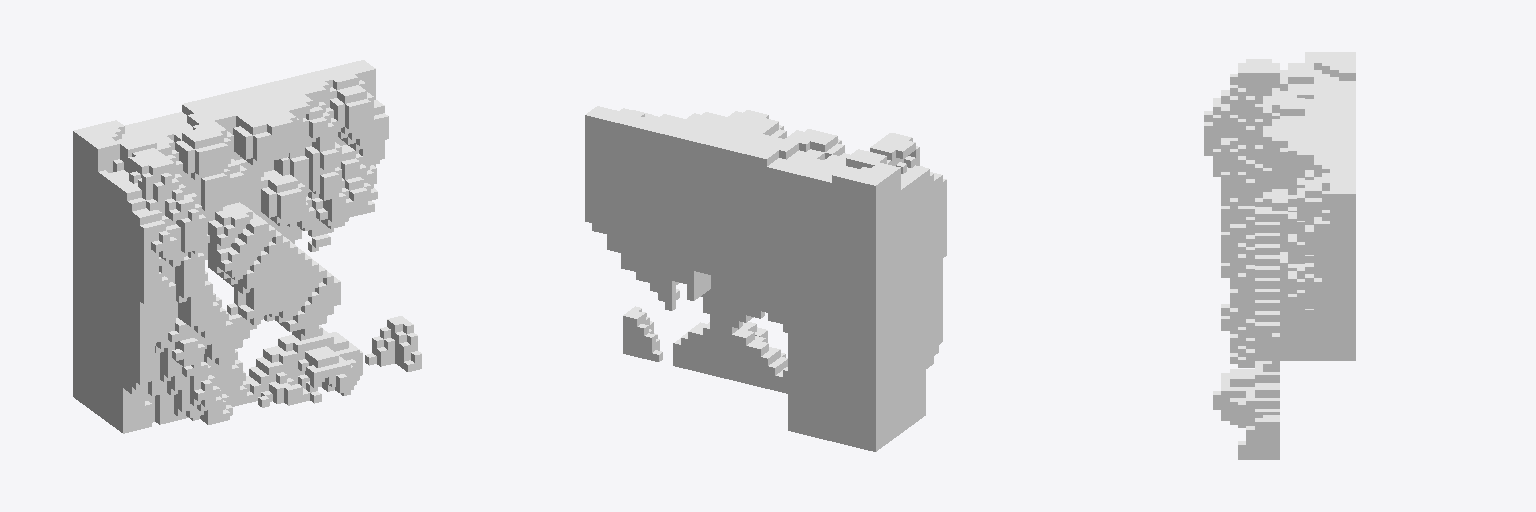
File: snow8.obj
3 views of the same model, side by side, from view 1: azimuth 30°, elevation 25°; view 2: azimuth 150°, elevation 25°; view 3: azimuth 270°, elevation 25° (orthographic).
Visible parts, largest first — view 1: object 1; view 2: object 1; view 3: object 1.
Part boxes in pixels (left/top/right/bottom): object 1: left=73, top=60, right=421, bottom=433; object 1: left=585, top=106, right=946, bottom=451; object 1: left=1204, top=52, right=1355, bottom=459.
Size of the model in its own units: 4 by 3.5 by 1.8.